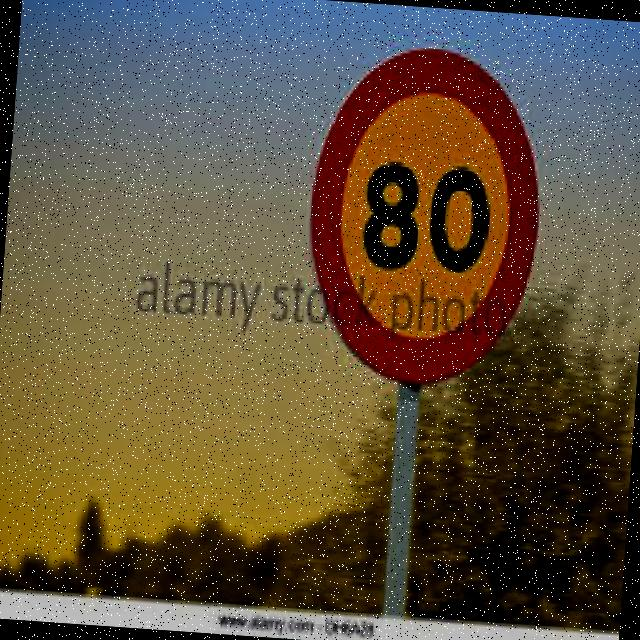Ograniczenie predkosci do 80: (327, 69, 528, 367)
